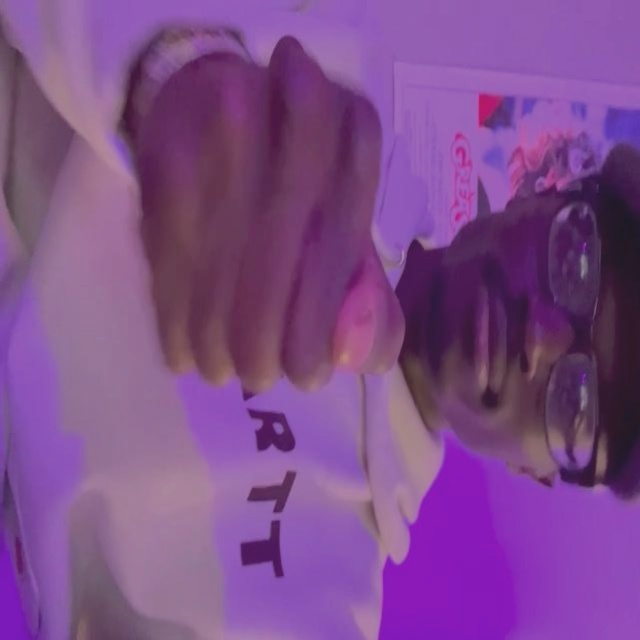Rock: (137, 30, 408, 395)
